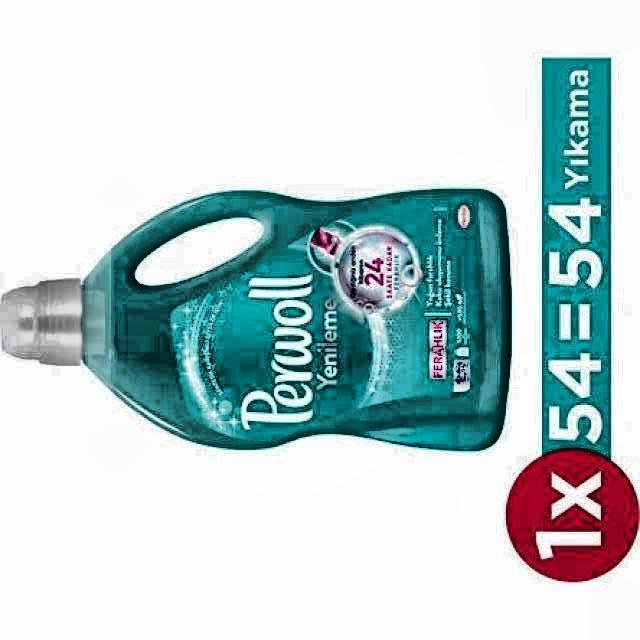plastic: (0, 191, 510, 449)
